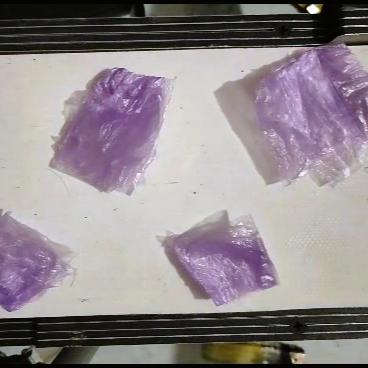Plastik: (253, 41, 368, 187), (52, 66, 177, 196), (174, 213, 280, 305), (0, 211, 71, 312)
